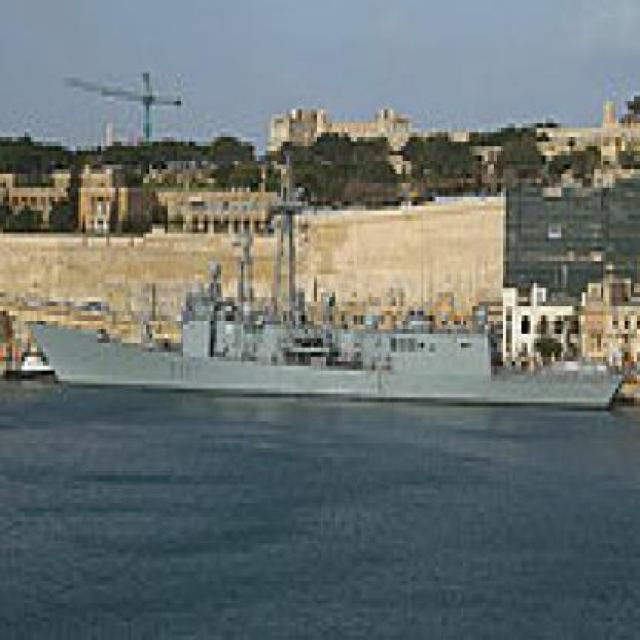warship2: (29, 165, 638, 412)
